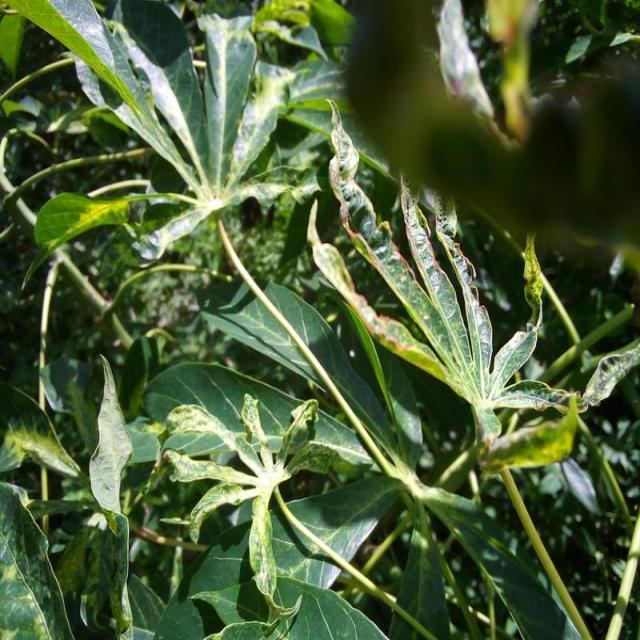cassava leaf: (3, 0, 638, 639), (89, 352, 134, 515)
